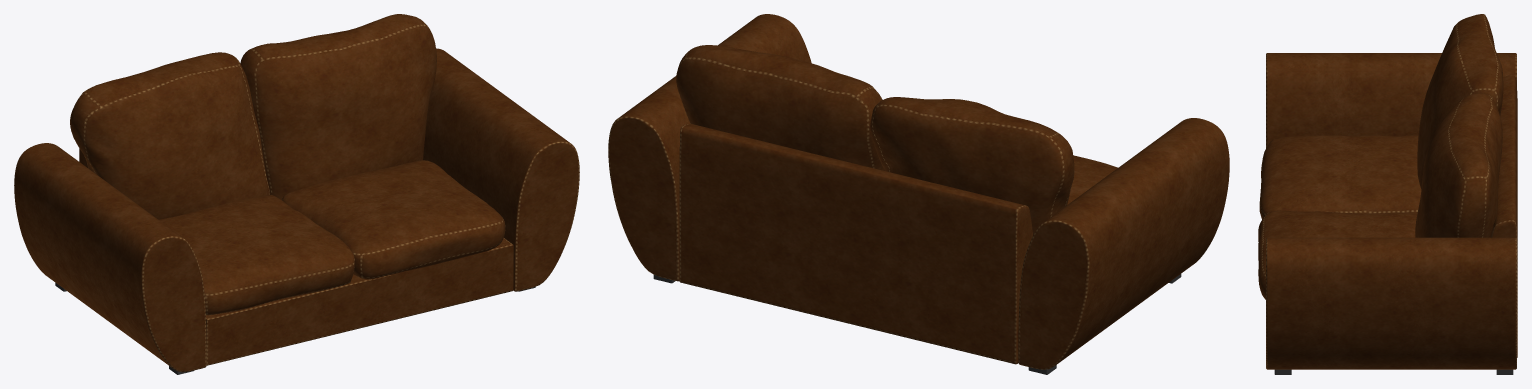
The model's file is sample2.glb.
The picture shows the model from 3 angles, left to right: view 1: azimuth 30°, elevation 25°; view 2: azimuth 150°, elevation 25°; view 3: azimuth 270°, elevation 25°; orthographic projection. The views are drawn at different scales.
Parts seen in each view (by area): view 1: Armrests, Back_Pillow.007, Back_Pillow.006, Base_Pillow.002, Base, Base_Pillow.001; view 2: Base, Armrests, Back_Pillow.007, Back_Pillow.006, Base_Pillow.001; view 3: Armrests, Base_Pillow.001, Back_Pillow.007, Back_Pillow.006, Base_Pillow.002, Base.
Boxes of the visible parts, left/top/right/bottom form: Armrests: left=14, top=48, right=579, bottom=372; Back_Pillow.007: left=240, top=14, right=436, bottom=199; Back_Pillow.006: left=70, top=52, right=270, bottom=219; Base_Pillow.002: left=282, top=160, right=505, bottom=279; Base: left=79, top=148, right=513, bottom=365; Base_Pillow.001: left=159, top=195, right=354, bottom=315; Base: left=679, top=123, right=1032, bottom=364; Armrests: left=608, top=14, right=1229, bottom=369; Back_Pillow.007: left=676, top=45, right=884, bottom=170; Back_Pillow.006: left=870, top=97, right=1074, bottom=234; Base_Pillow.001: left=1067, top=155, right=1117, bottom=204; Armrests: left=1266, top=53, right=1516, bottom=369; Base_Pillow.001: left=1259, top=135, right=1421, bottom=219; Back_Pillow.007: left=1415, top=93, right=1502, bottom=237; Back_Pillow.006: left=1417, top=14, right=1503, bottom=188; Base_Pillow.002: left=1258, top=210, right=1417, bottom=299; Base: left=1490, top=75, right=1517, bottom=357.
Bounding box in the file's own units: 2 × 0.9 × 1.05.
Materials: 1 (1 with a texture image).
